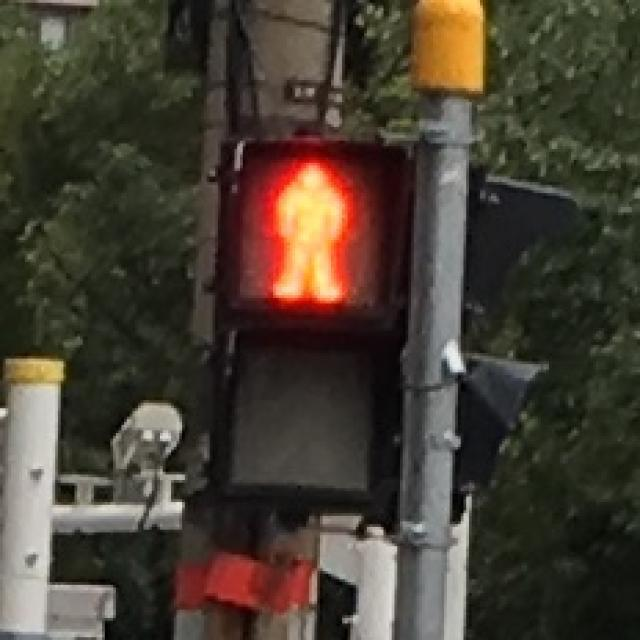red-crossing: (242, 149, 376, 315)
